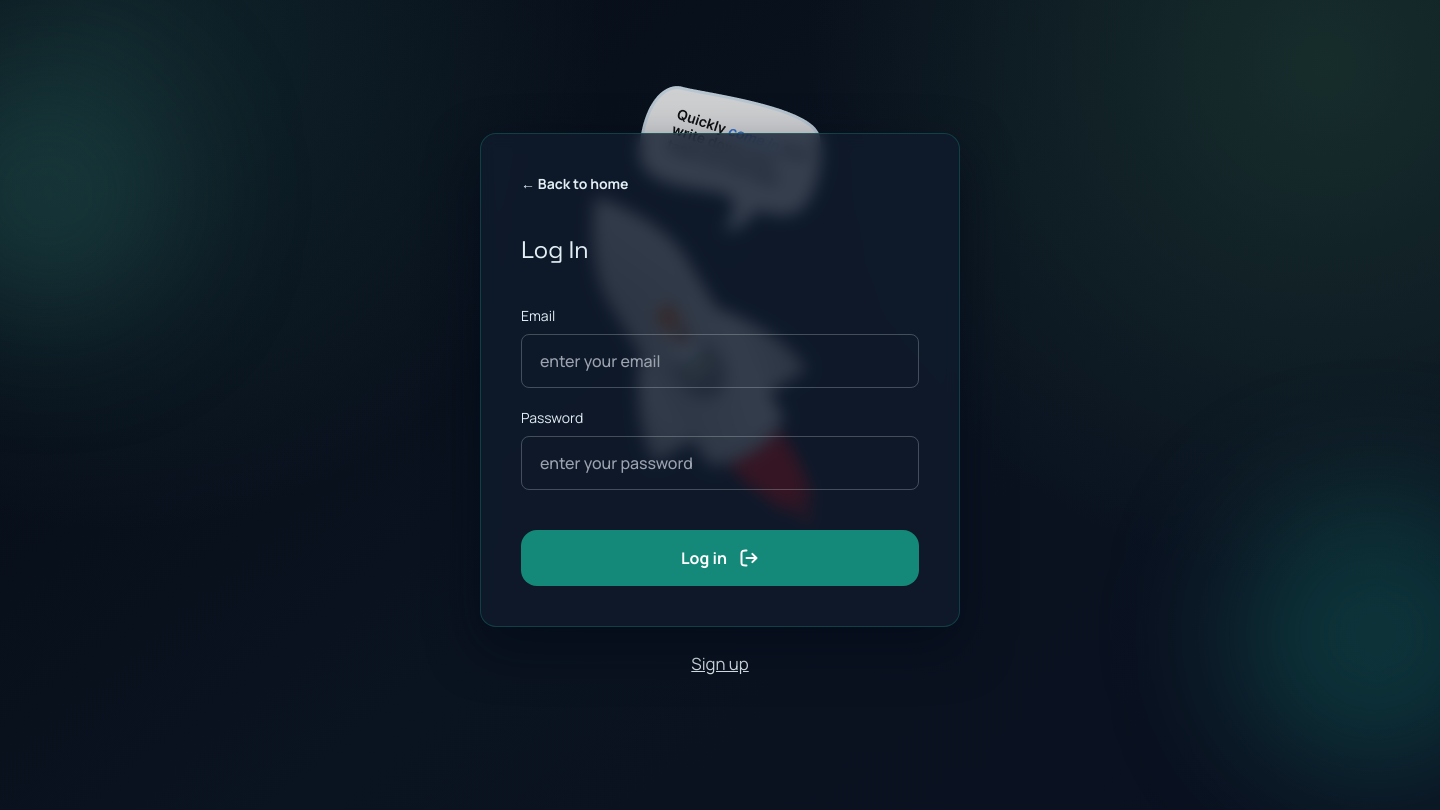
it: login › should have loading while the input is checking
This screenshot has width=1440, height=810.
In the field labelled "email": [720, 361] box [540,349,900,373], type "unExistedEmail@gmail.com"
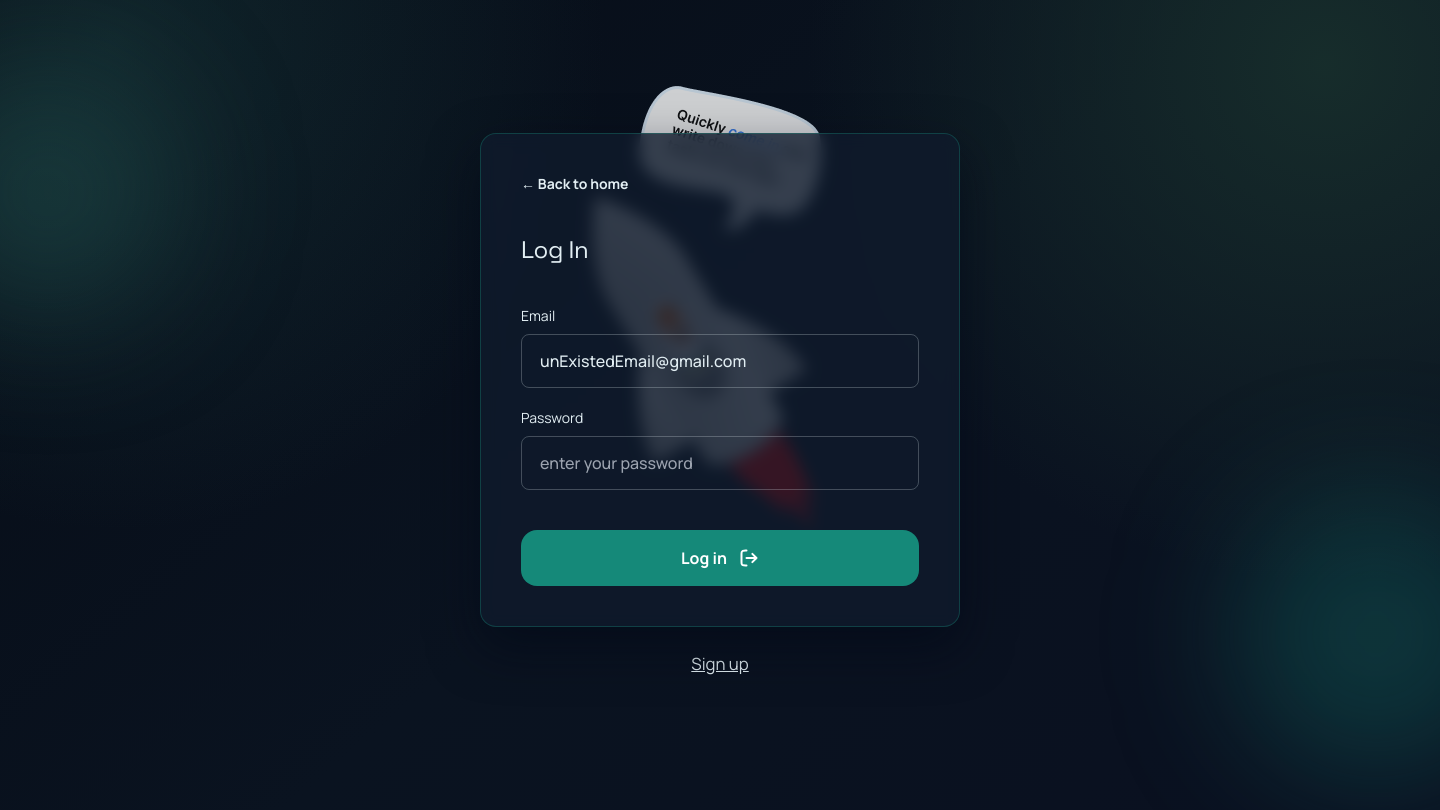
In the password field labelled "password": [720, 463] box [540,451,900,475], type "valid_password_120_AB_&$"
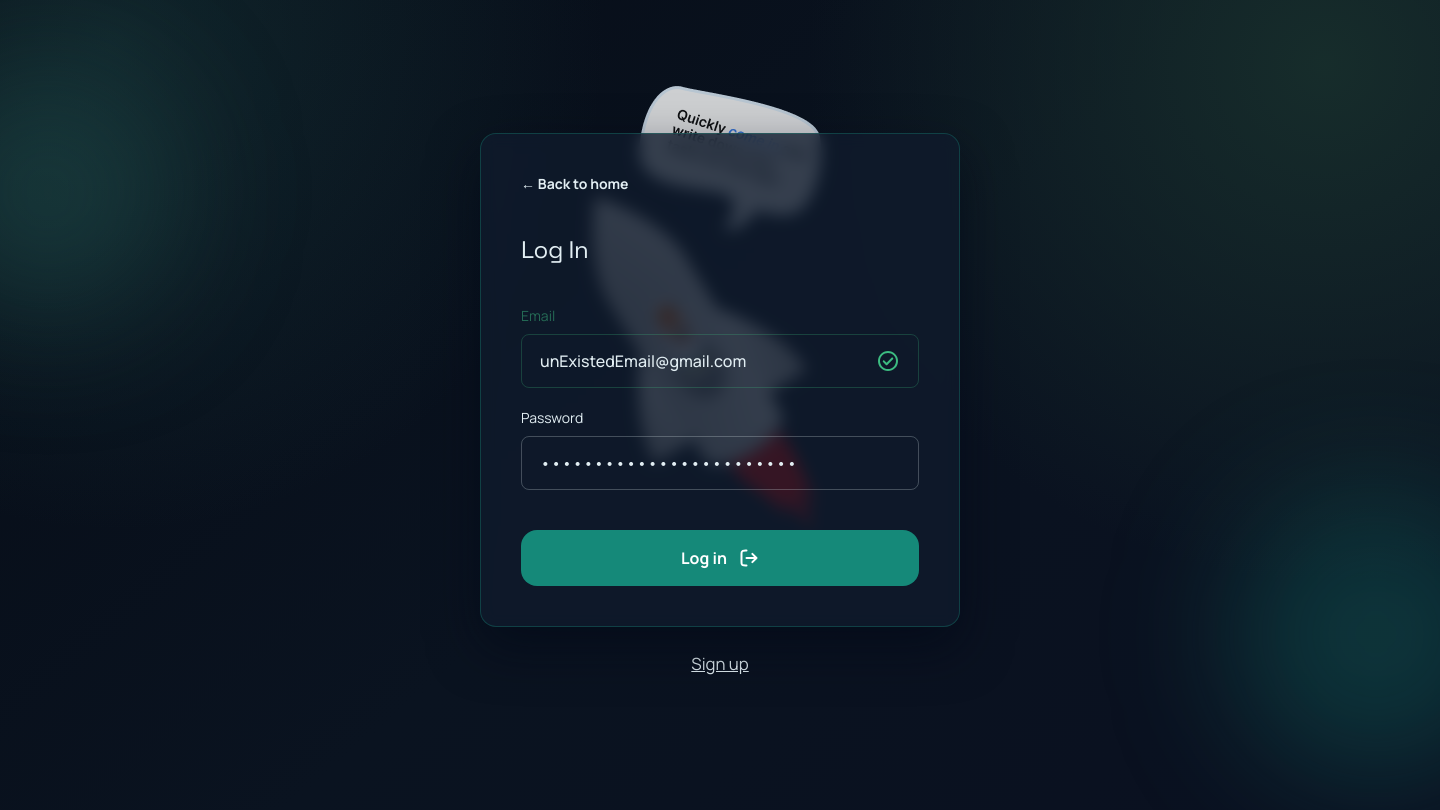
Click the button "Log in": [720, 558] box [521,530,919,586]
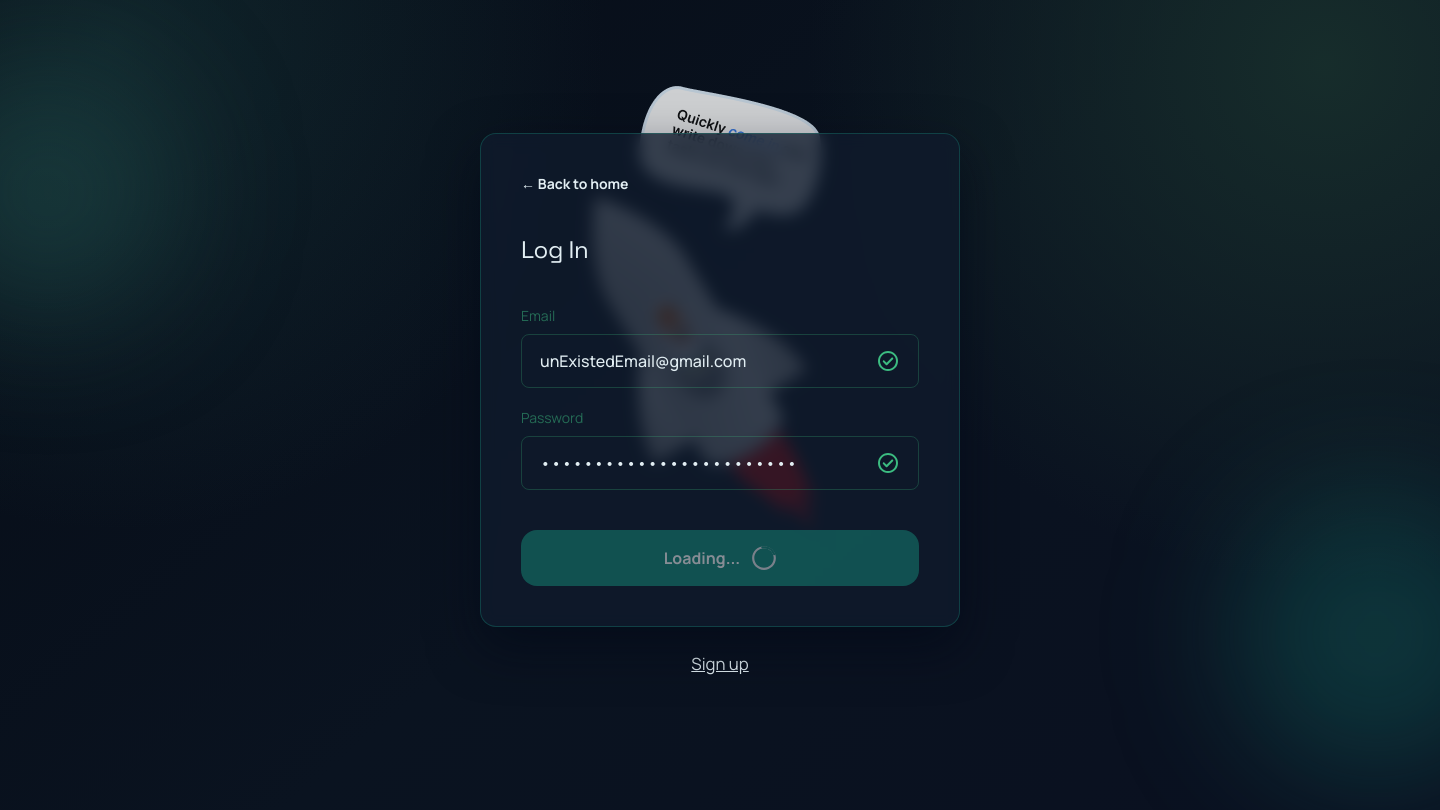
Expected: the button named "Log in" reads "loading...", [521,530,919,586]
Expected: the button named "Log in" is disabled, [521,530,919,586]
